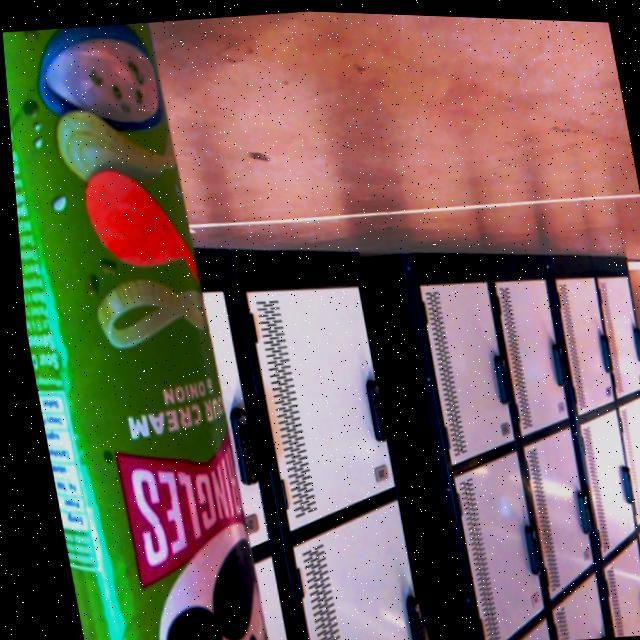greenpringles: (1, 8, 330, 640)
